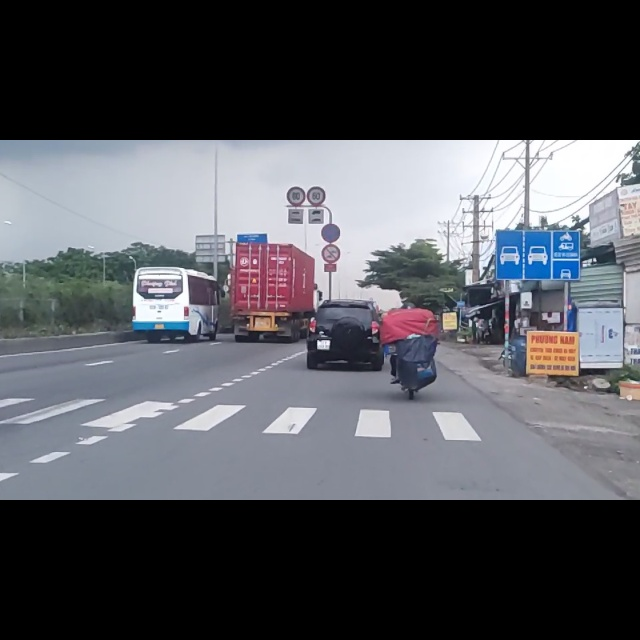bien_chi_dan: (495, 159, 580, 250), (307, 82, 327, 117), (286, 82, 305, 117), (322, 184, 341, 219), (321, 148, 341, 181)
